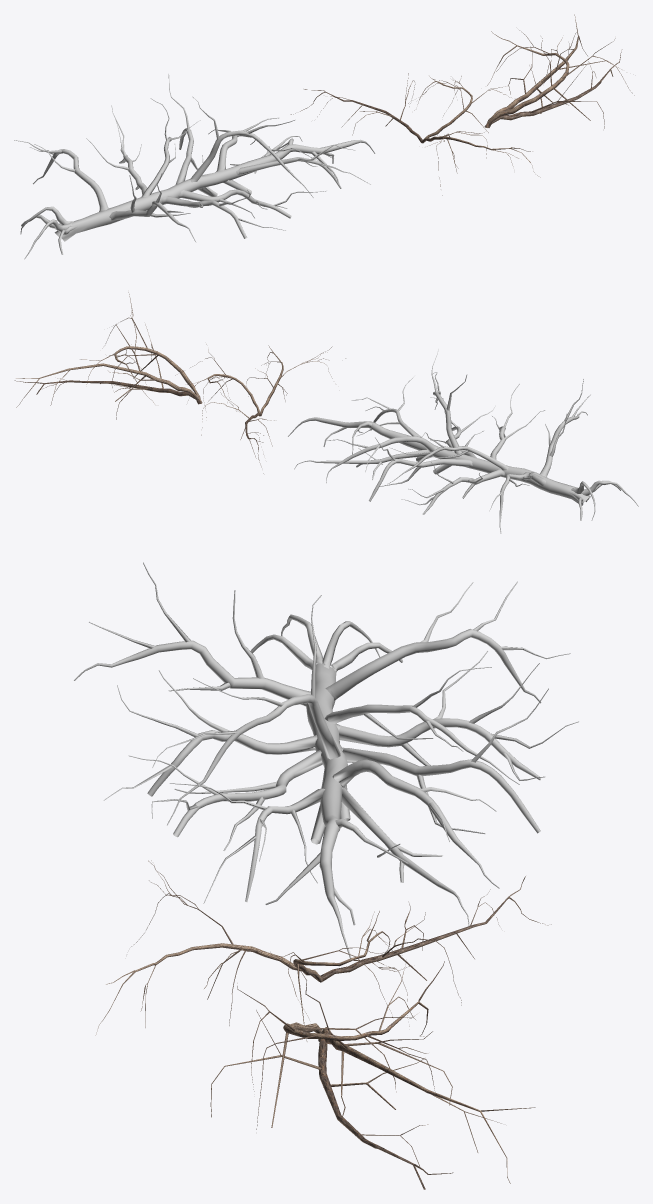
Rendered from Fallen trees.fbx.
3 views of the same model, one above another, from view 1: azimuth 30°, elevation 25°; view 2: azimuth 150°, elevation 25°; view 3: azimuth 270°, elevation 25° (orthographic). The views are drawn at different scales.
Visible parts, largest first — view 1: Tree3, Tree1, Tree2; view 2: Tree3, Tree1, Tree2; view 3: Tree3, Tree1, Tree2.
Part boxes in pixels (x1=…): Tree3: x1=14, y1=74, x2=375, y2=259; Tree1: x1=484, y1=14, x2=634, y2=128; Tree2: x1=290, y1=73, x2=540, y2=195; Tree3: x1=288, y1=349, x2=638, y2=533; Tree1: x1=14, y1=292, x2=202, y2=419; Tree2: x1=175, y1=344, x2=345, y2=473; Tree3: x1=74, y1=562, x2=578, y2=958; Tree1: x1=210, y1=961, x2=535, y2=1189; Tree2: x1=95, y1=860, x2=551, y2=1041.
Bounding box in the file's own units: 5013 × 837 × 1886.
